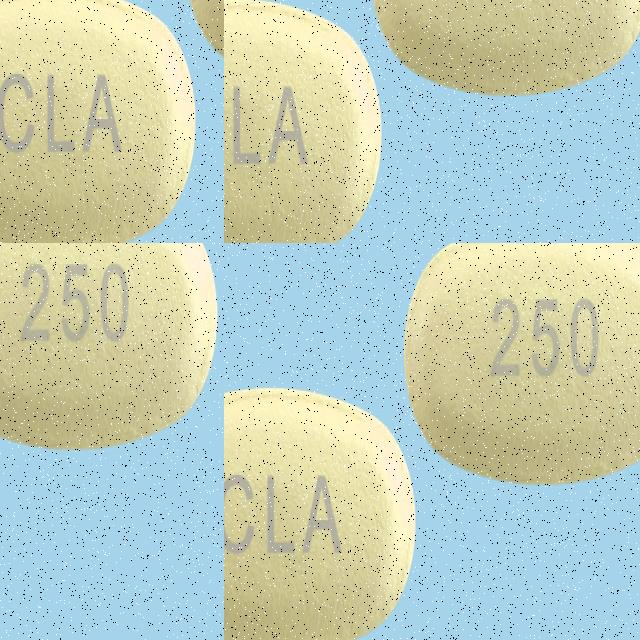Banan: (55, 44, 224, 243)
Cephamethyl Tab: (224, 0, 387, 243), (366, 0, 640, 94)
Clar - 500mg: (400, 243, 640, 487), (224, 375, 421, 640)
